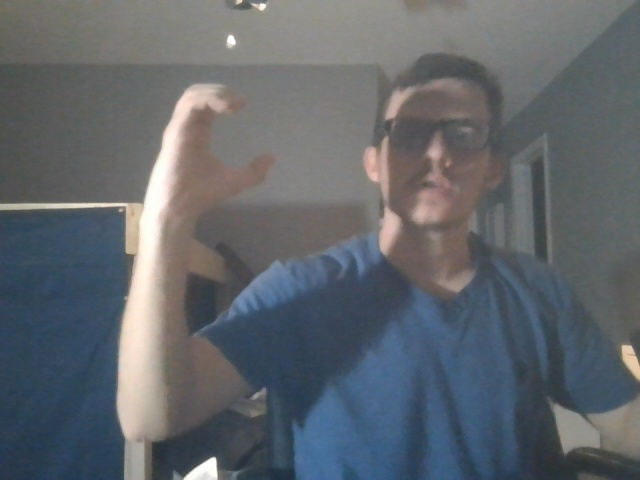C: (141, 75, 308, 212)
